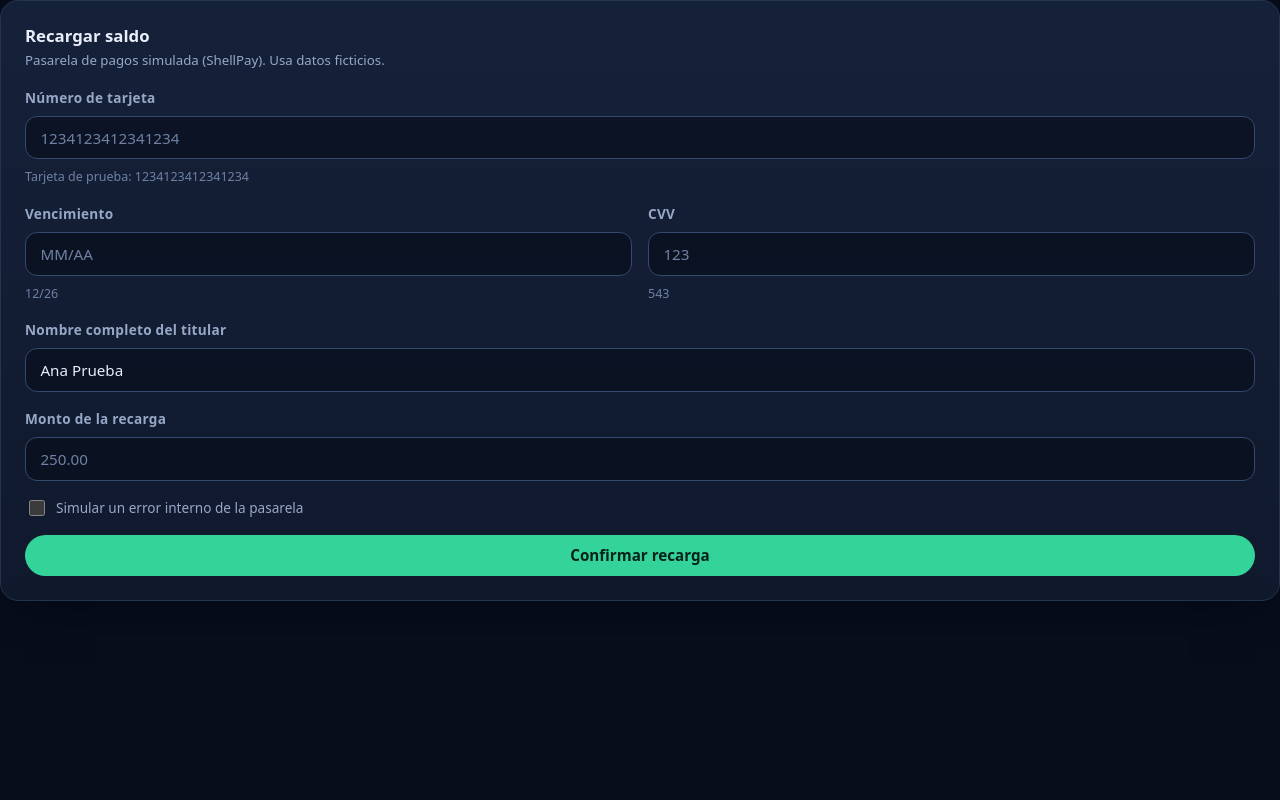
Test: TopUpForm › muestra un error de validación si el monto está vacío
This screenshot has width=1280, height=800.
Click the button "Confirmar recarga": (640, 555) [25,534,1255,576]
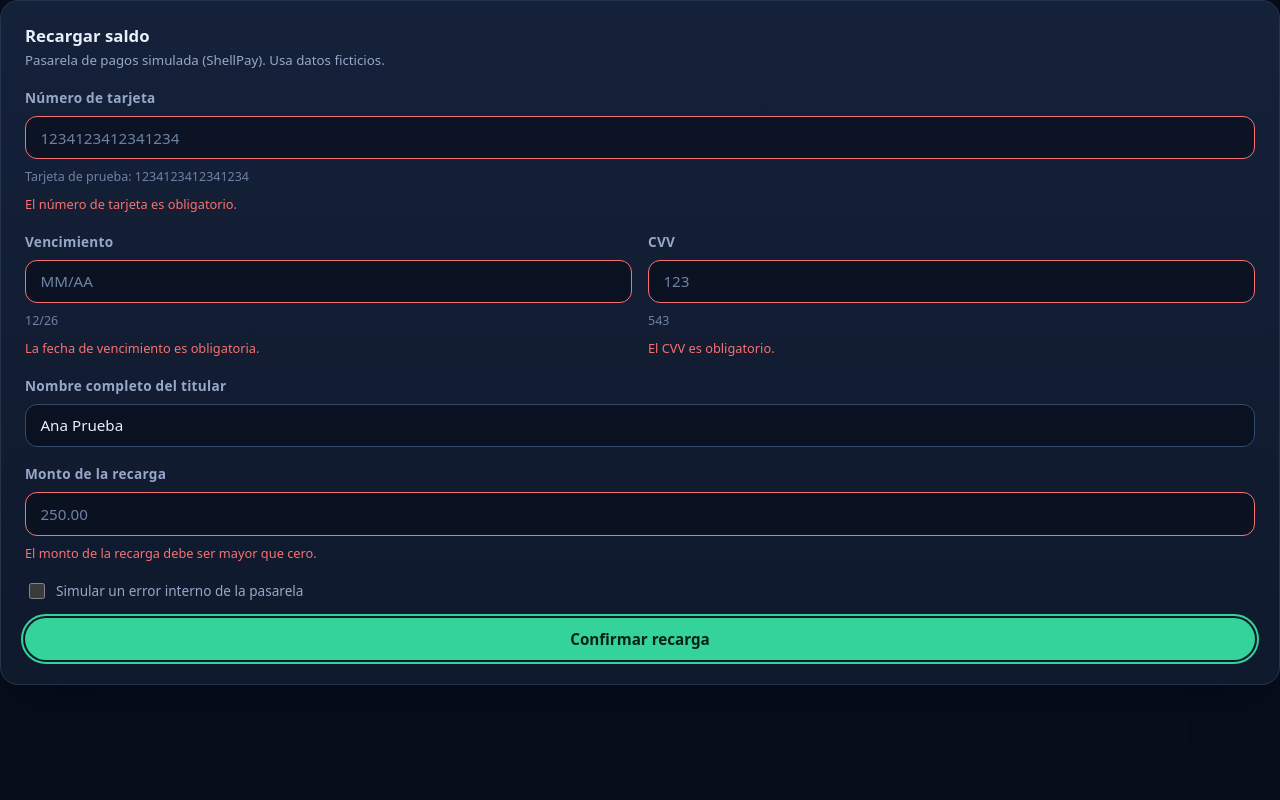
Now the text "El monto de la recarga debe ser mayor que cero." is shown, box [25,544,317,562]
